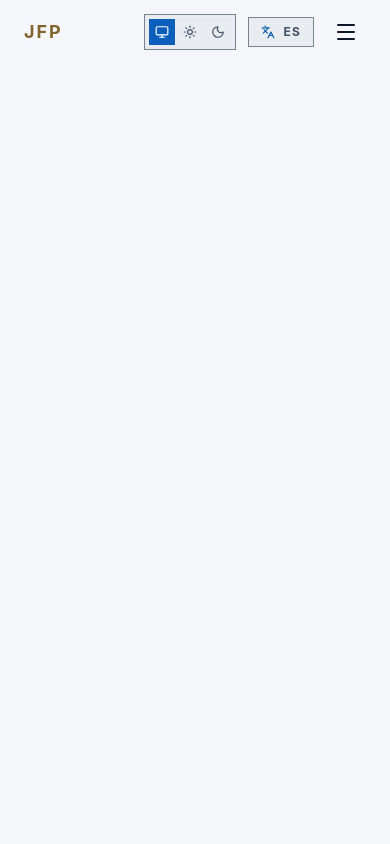
Test: Navbar › should render language selection inside mobile drawer on toggle
# Open the mobile menu
Step 1. Click the button named "Abrir menú" → (346, 32), box [326,12,366,52]
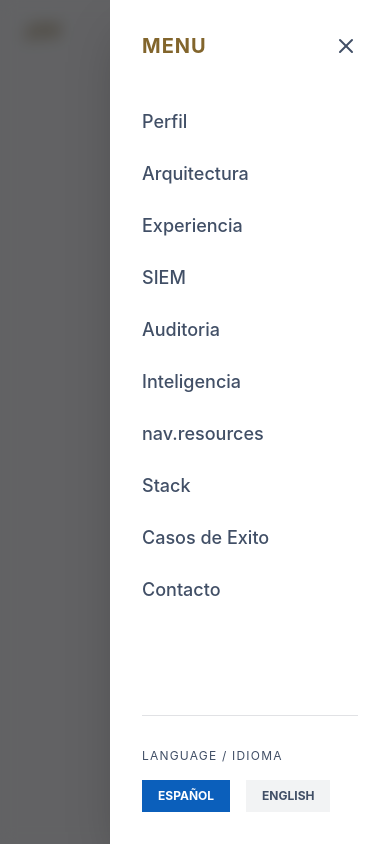
Expected: the button "ESPAÑOL" is shown, [142,780,230,812]
Expected: the button "ENGLISH" is shown, [246,780,330,812]
